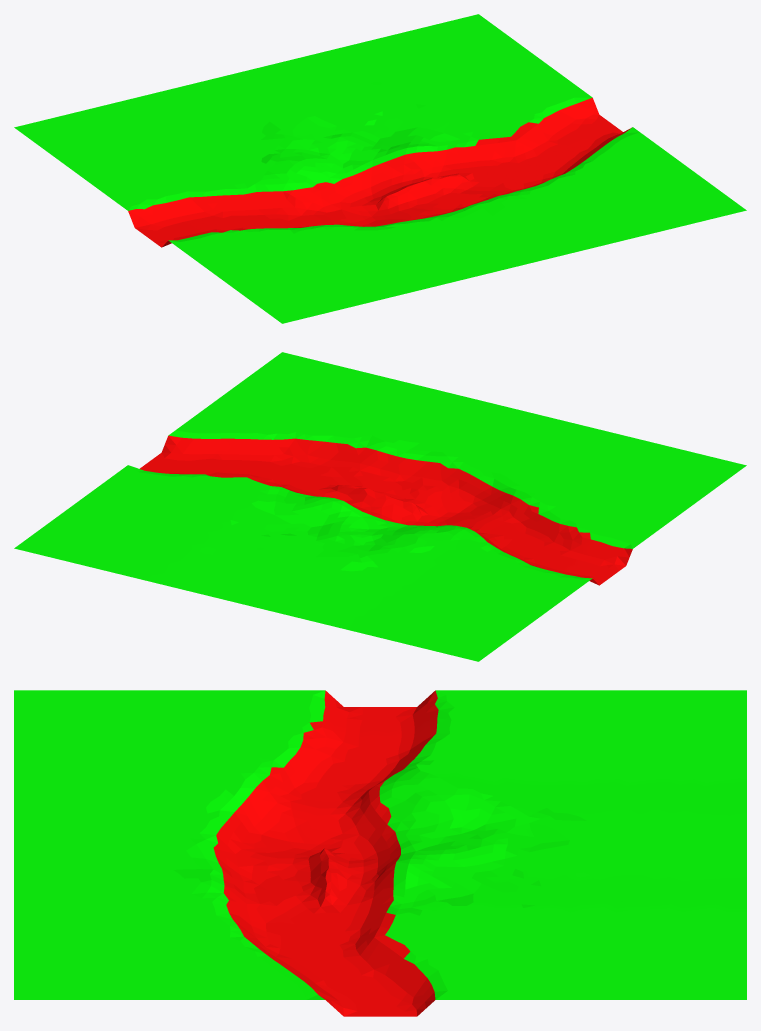
File: RiverBifurcation06.fbx
3 renders of one model, top to bottom at view 1: azimuth 30°, elevation 25°; view 2: azimuth 150°, elevation 25°; view 3: azimuth 270°, elevation 25°, orthographic. The views are drawn at different scales.
Parts seen in each view (by area): view 1: RiverBifurcation06; view 2: RiverBifurcation06; view 3: RiverBifurcation06.
Part boxes in pixels (x1=…): RiverBifurcation06: x1=14, y1=14, x2=746, y2=323; RiverBifurcation06: x1=14, y1=352, x2=746, y2=661; RiverBifurcation06: x1=14, y1=690, x2=746, y2=1016.
Bounding box in the file's own units: 5009 × 263 × 5009.
